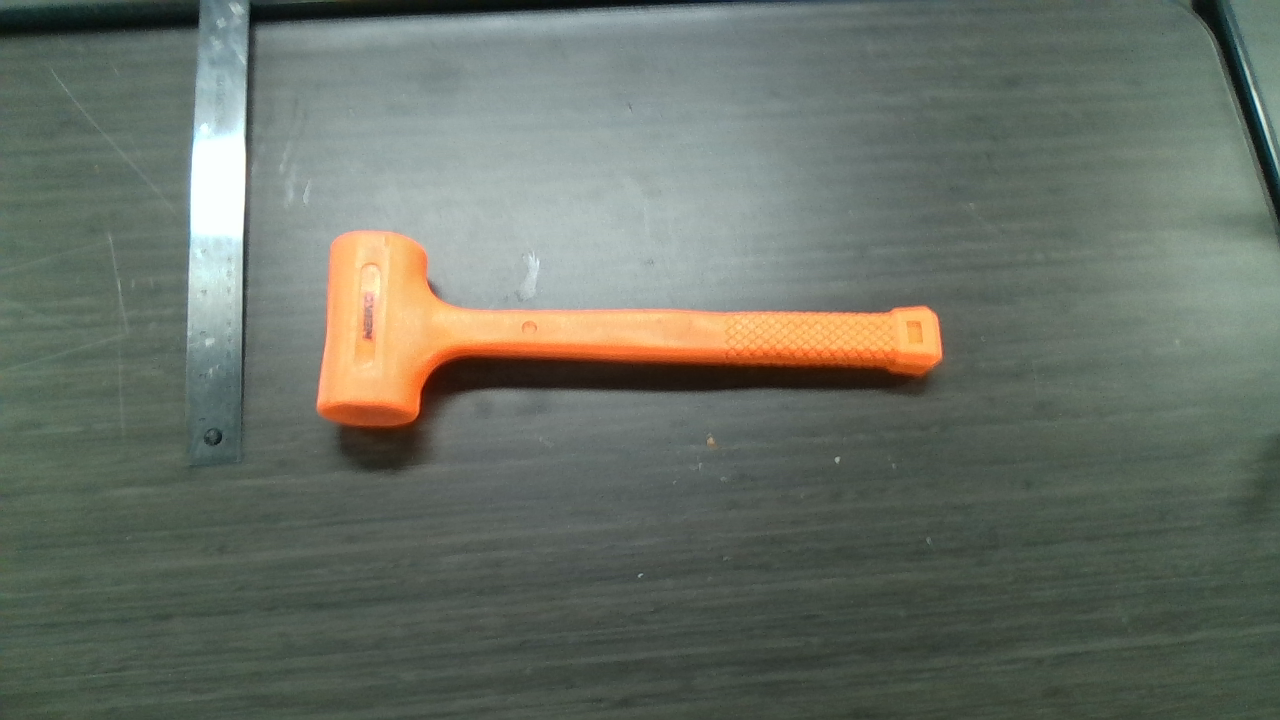Orange Hammer: (322, 234, 941, 427)
